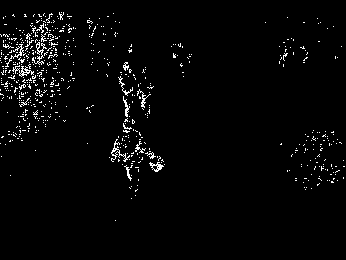person: (107, 116, 166, 198), (117, 59, 137, 122)
